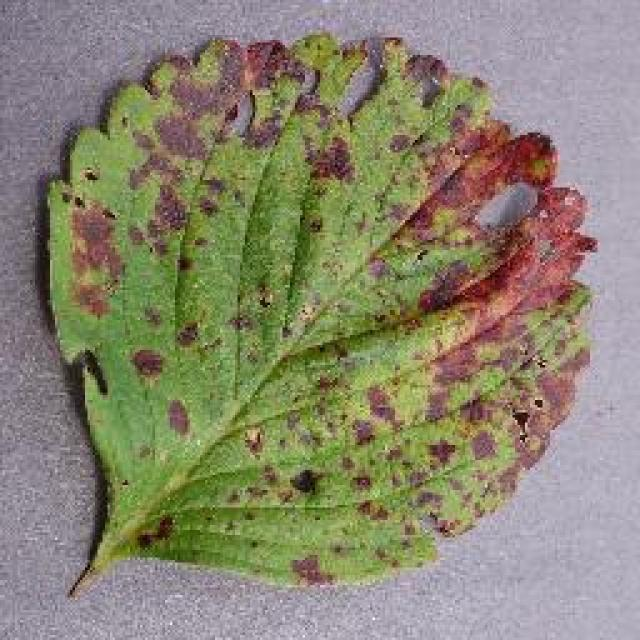Strawberry leaf scorch: (80, 68, 588, 500)
